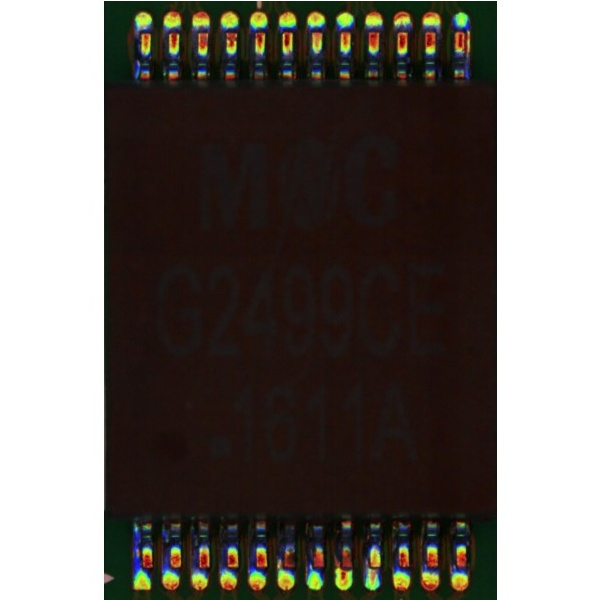Bad_podu: (369, 558, 377, 575), (339, 563, 348, 577)
Bad_qiaojiao: (464, 29, 470, 77), (133, 524, 139, 567)
